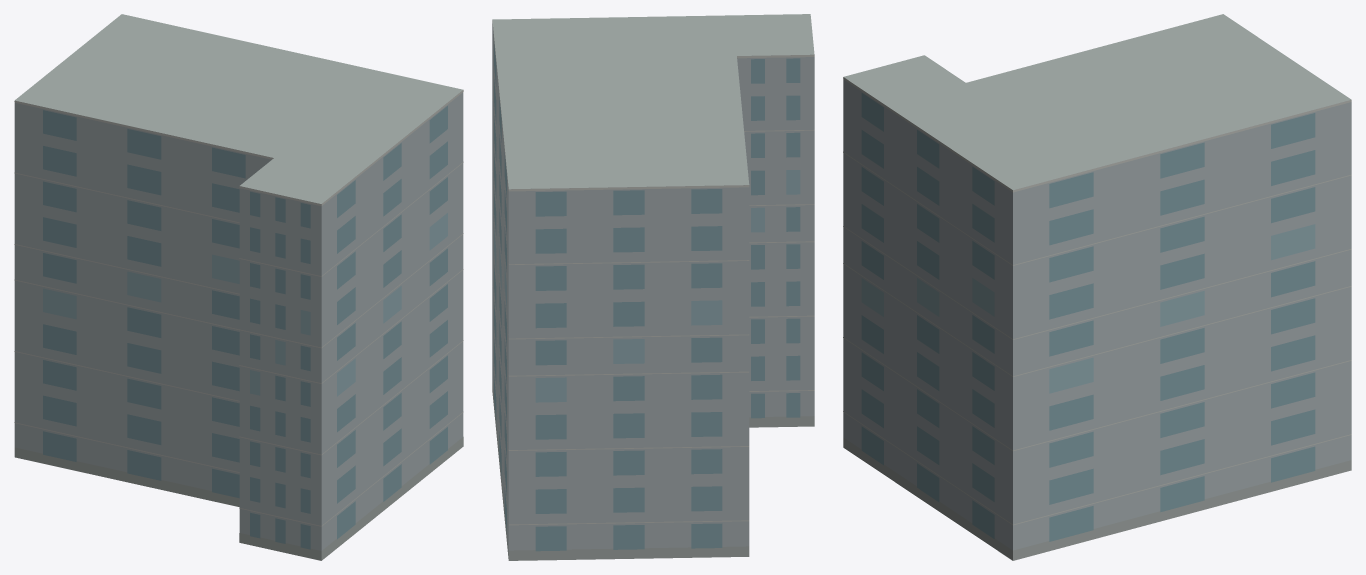
The model's file is residential-6b78587e-40a0-4f9f-b0ea-fed783294550.glb.
The picture shows the model from 3 angles, left to right: view 1: azimuth 30°, elevation 25°; view 2: azimuth 150°, elevation 25°; view 3: azimuth 270°, elevation 25°; orthographic projection. The views are drawn at different scales.
Visible parts, largest first — view 1: residential-6b78587e-40a0-4f9f-b0ea-fed783294550.tmp; view 2: residential-6b78587e-40a0-4f9f-b0ea-fed783294550.tmp; view 3: residential-6b78587e-40a0-4f9f-b0ea-fed783294550.tmp.
Part boxes in pixels (box(x1,y1,x2,y2)): residential-6b78587e-40a0-4f9f-b0ea-fed783294550.tmp: box(14, 14, 463, 560); residential-6b78587e-40a0-4f9f-b0ea-fed783294550.tmp: box(492, 14, 814, 560); residential-6b78587e-40a0-4f9f-b0ea-fed783294550.tmp: box(843, 14, 1351, 560).
Bounding box in the file's own units: 40.82 × 40 × 49.75.
